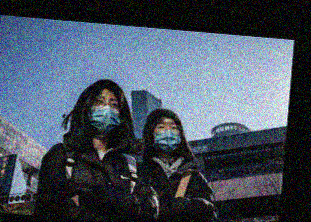with_mask: (86, 94, 121, 138), (152, 119, 182, 154)
